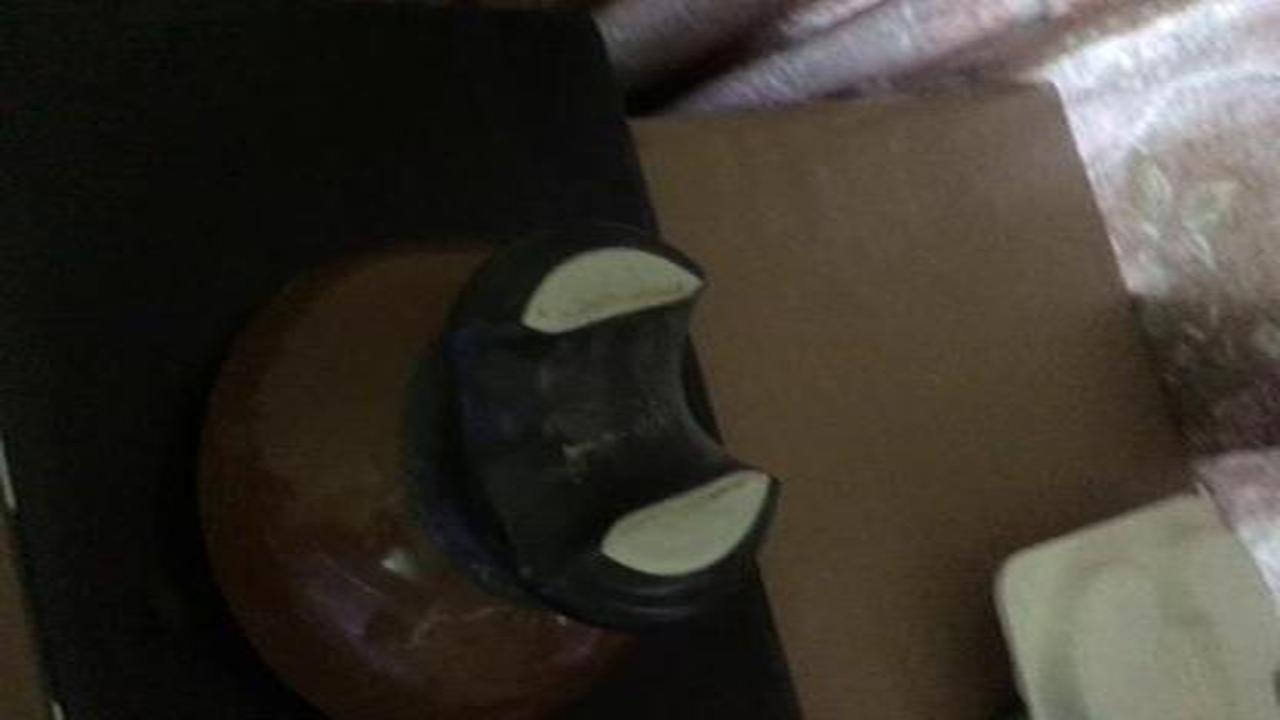insulator_pin: (157, 212, 810, 720)
